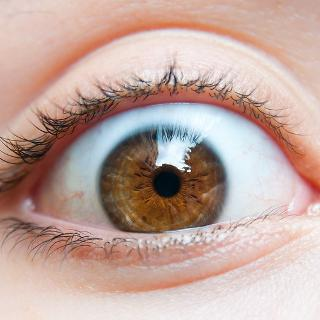pupil: (153, 170, 180, 198)
